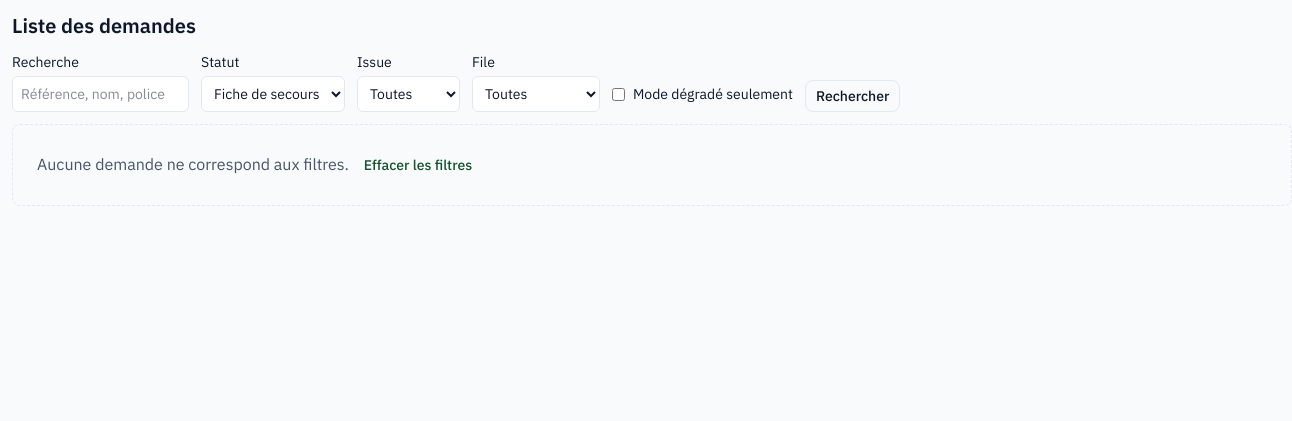
Scenario: E1 · Liste des demandes › filtres sans résultat : message et « Effacer les filtres »
The width and height of the screenshot is (1292, 421).
Expected: the text "Aucune demande ne correspond aux filtres." is shown, [37,154,349,174]
Click the button "Effacer les filtres".
click(418, 165)  # box [353,149,483,181]
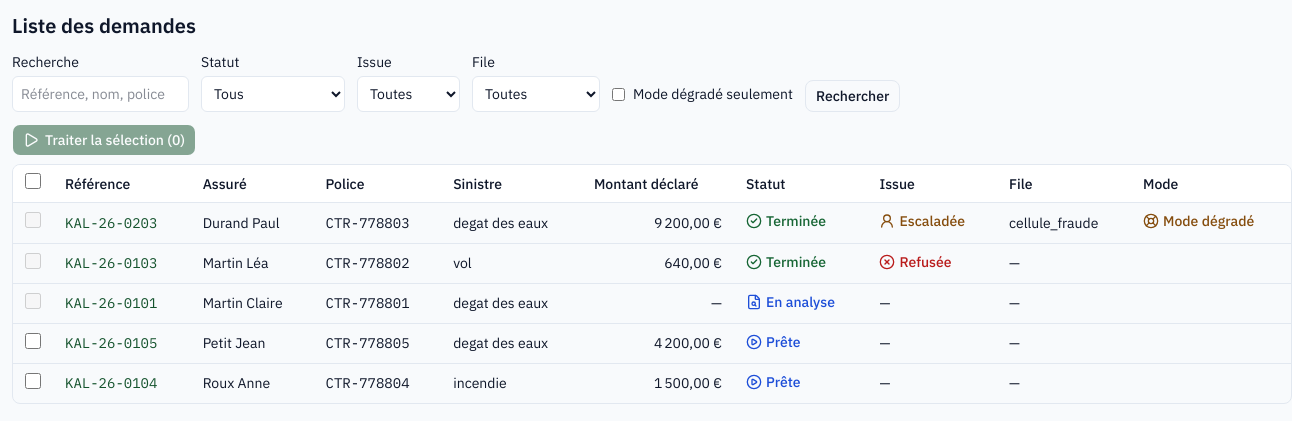
Expected: the link "KAL-26-0203" is shown, [65,214,157,232]
